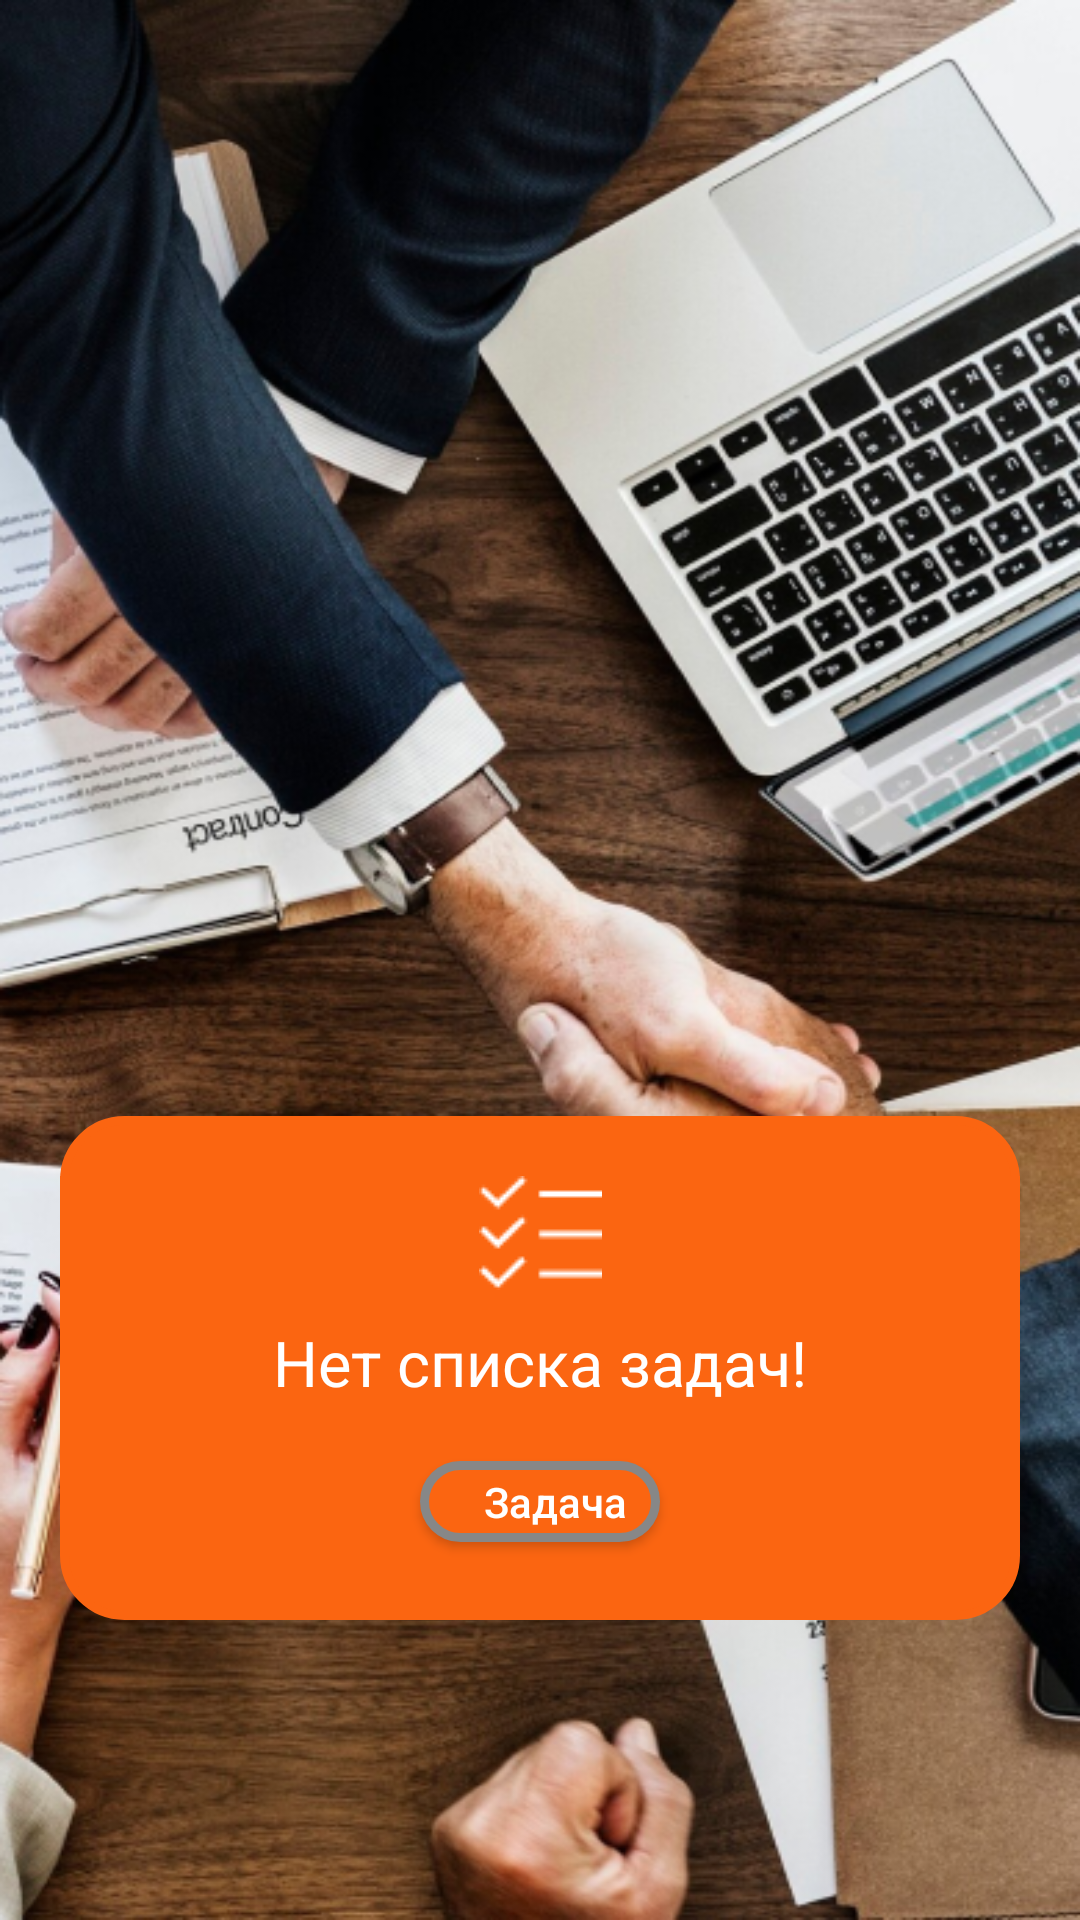

Locate icon controls on the screen. Image size 1080x1920, boxes as (x1, y1, x2, y2).
adding task: (479, 1176, 602, 1288)
